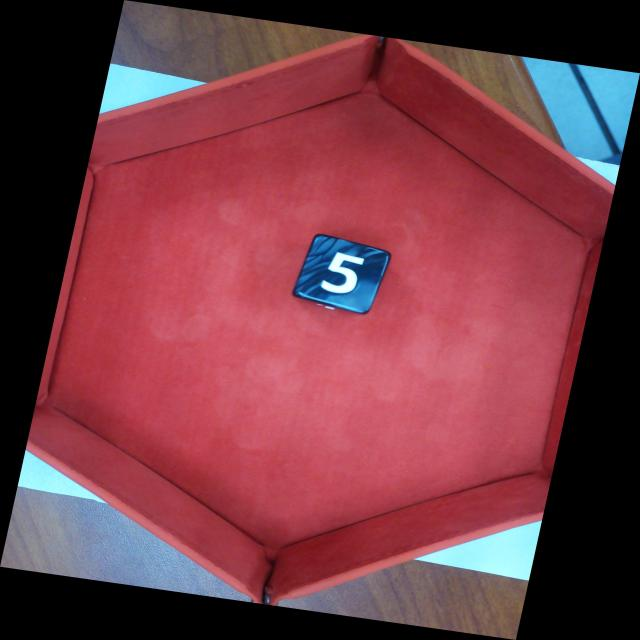dice: (304, 238, 387, 308)
